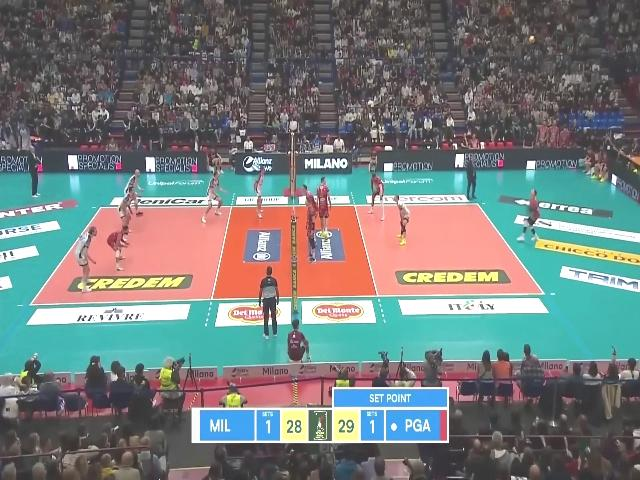volleyball court: (31, 203, 546, 305)
